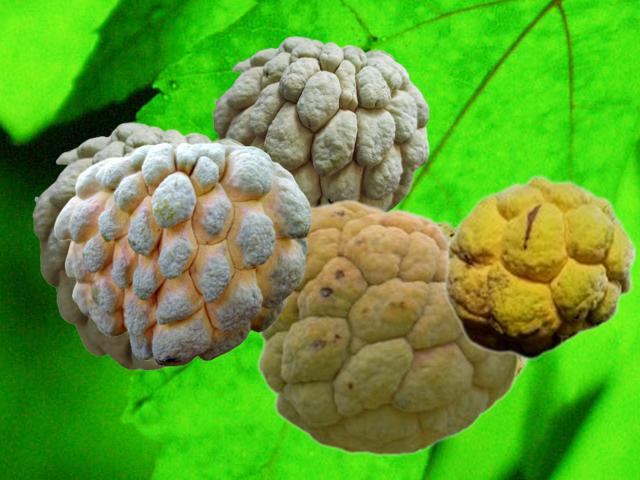atis: (256, 198, 518, 455), (54, 142, 310, 365), (32, 122, 244, 369), (212, 36, 428, 208), (442, 174, 636, 359)
